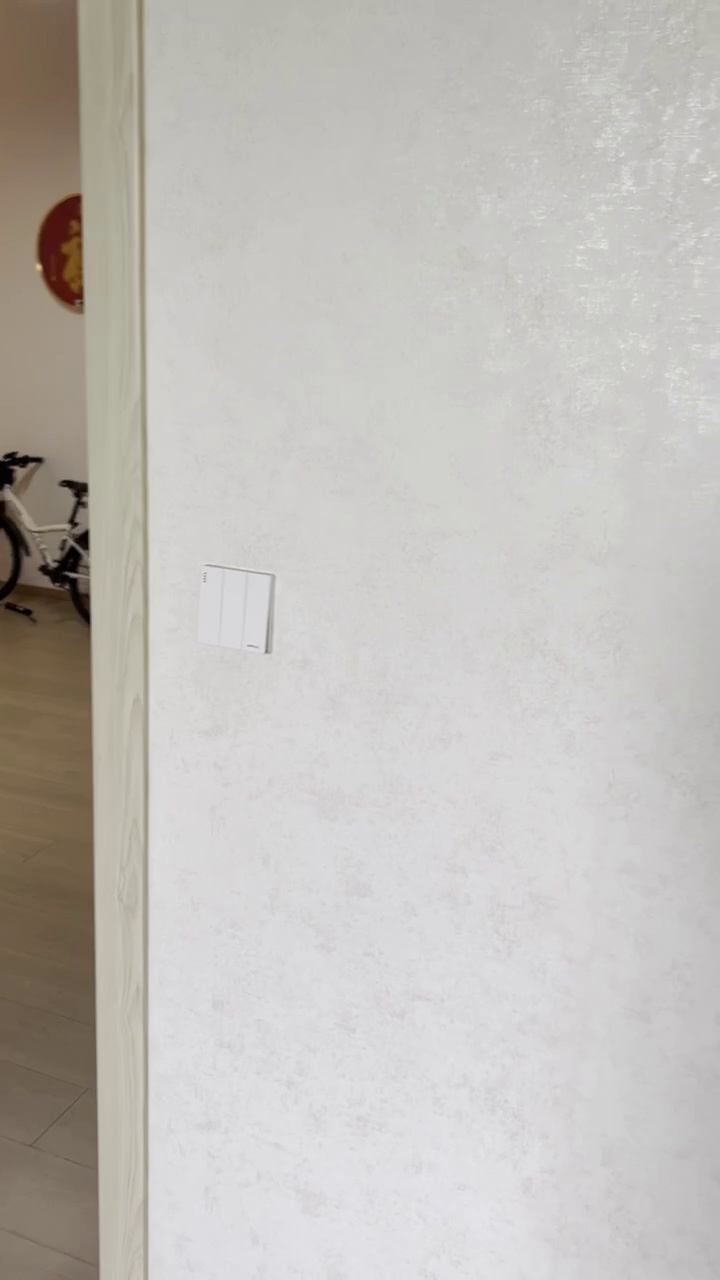button: (193, 562, 283, 660)
